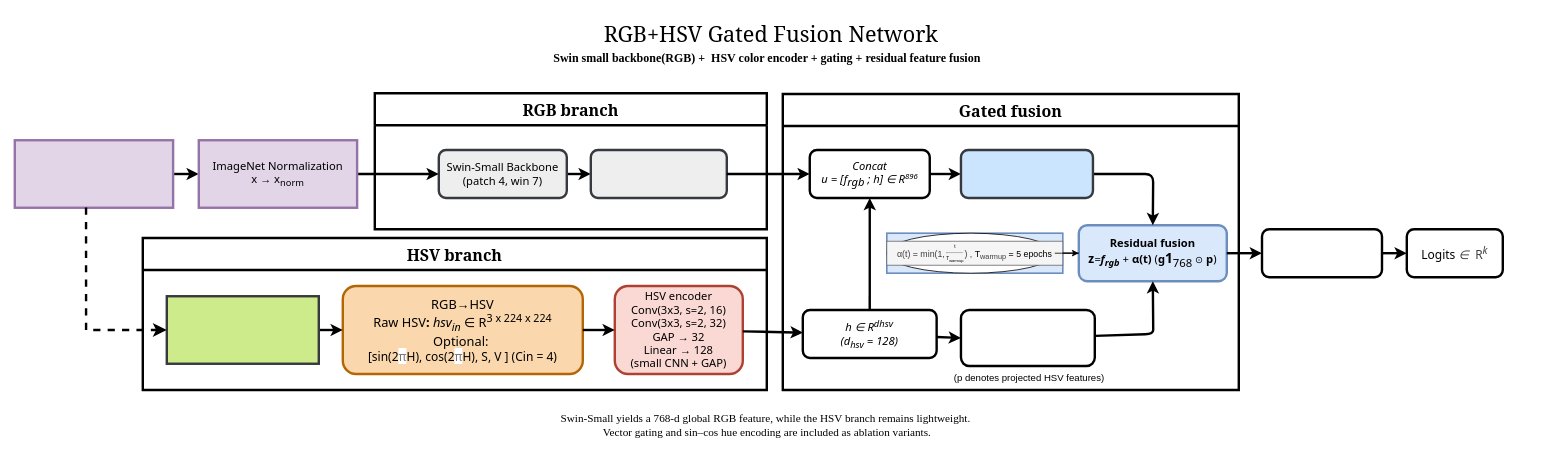
This 1553x467 diagram has some shape labels left out. The shapes that lost their labels are listed below. From the top down, each one's centre as x and y in pixels, then its label:
At [93,174]: "Input x ∈ R 3 x 224 x 224".
At [658,173]: "f rgb ∈ R 768 (GAP output)".
At [1026,173]: "Gate MLP + Sigmoid scalar: g ∈ (0,1) vector: g ∈ (0,1) 768".
At [1321,253]: "Classification Head MLP / Linear".
At [242,330]: "Unnormalize + clamp x norm → x rgb01 ∈ [0, 1]".
At [1027,337]: "HSV projection p = Linear(Dropout(h)) p = W p h ∈ R 768".
